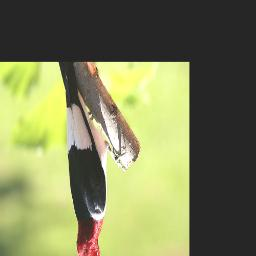Woodpecker: (57, 63, 116, 256)
